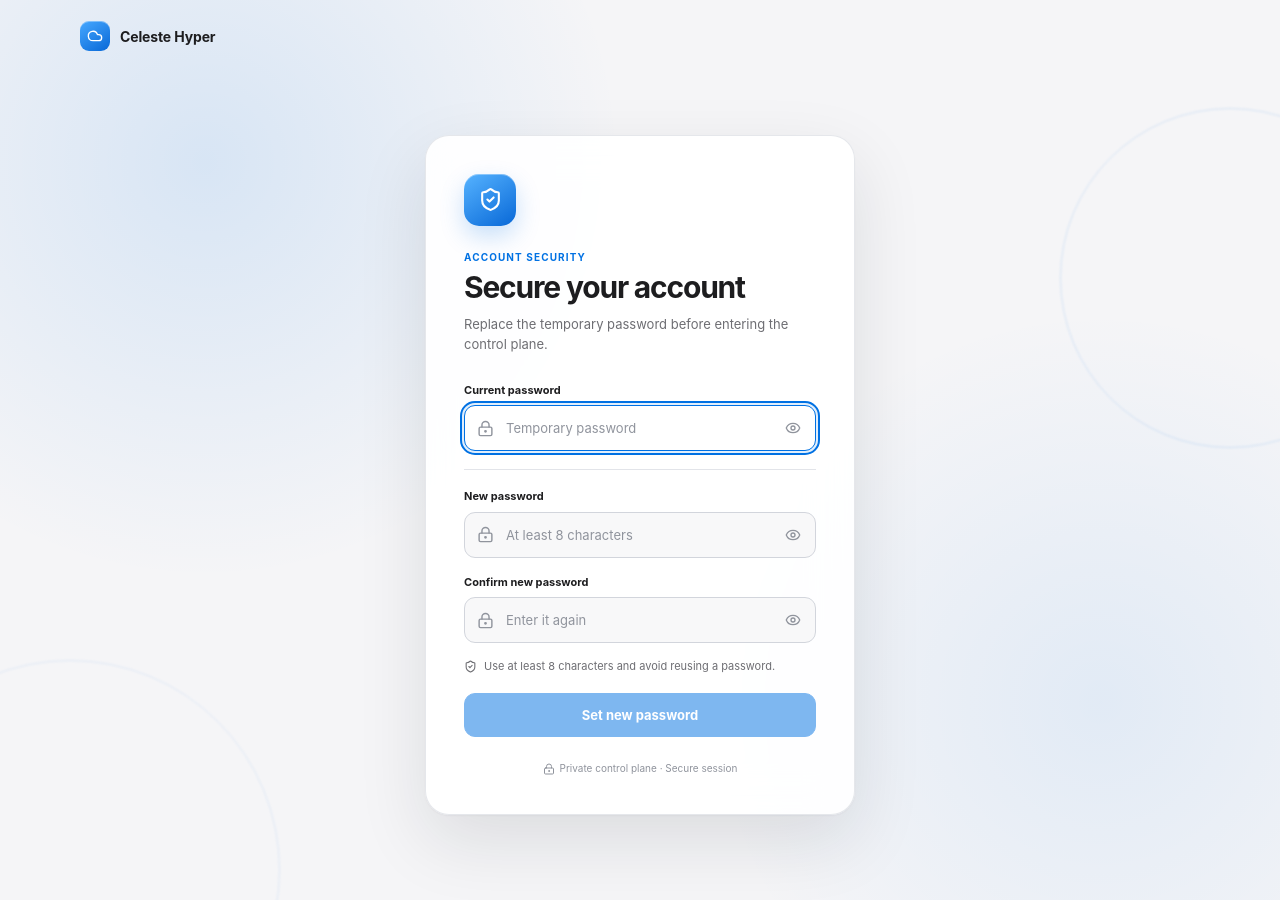
Test: ChangePassword › does not submit a password shorter than eight characters
Step 1. Type "admin" into the password field labelled "Current password" → (640, 428), box [464,405,816,451]
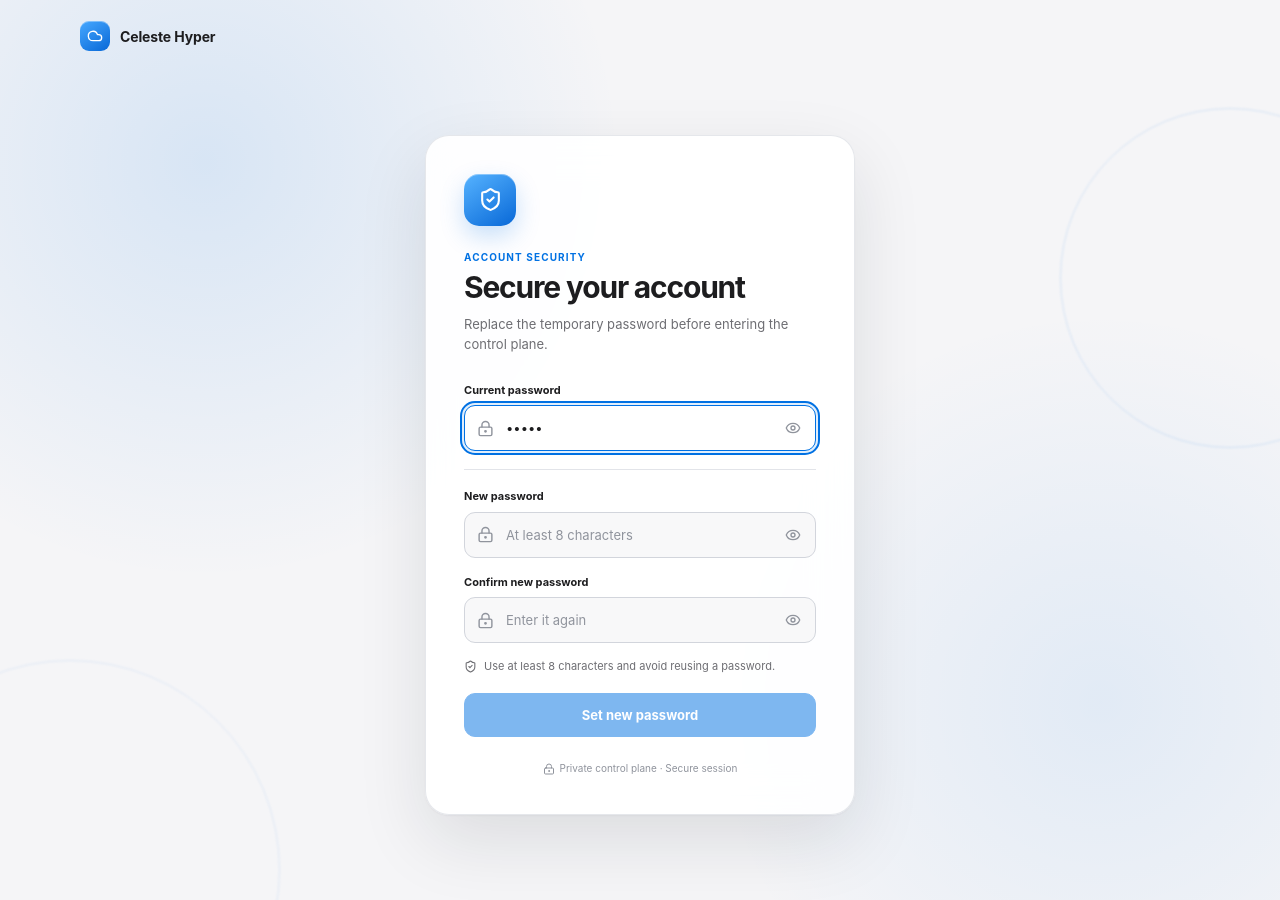
Step 2. Type "short" into the password field labelled "New password" → (640, 535), box [464,512,816,558]
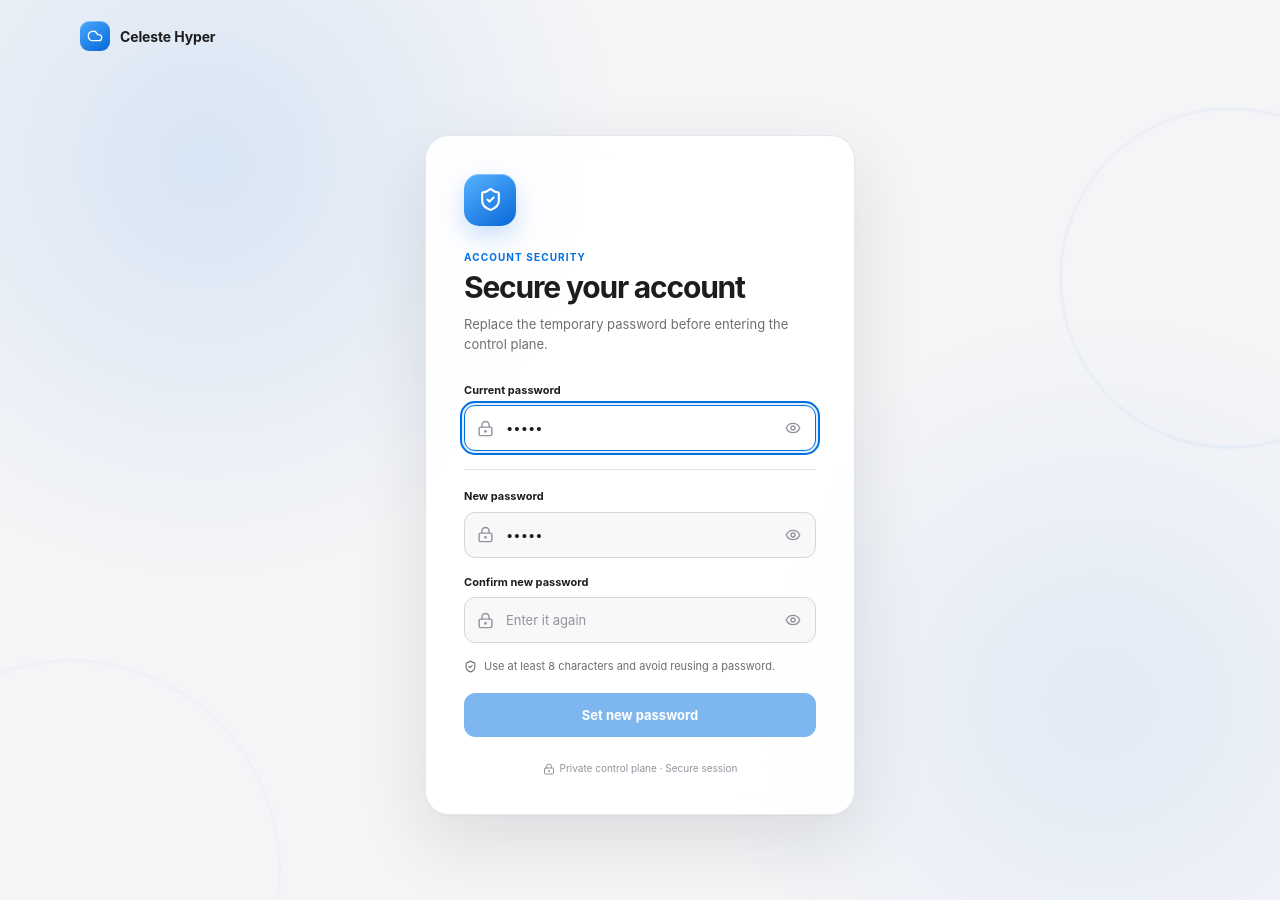
Step 3. Type "short" into the password field labelled "Confirm new password" → (640, 620), box [464,597,816,643]
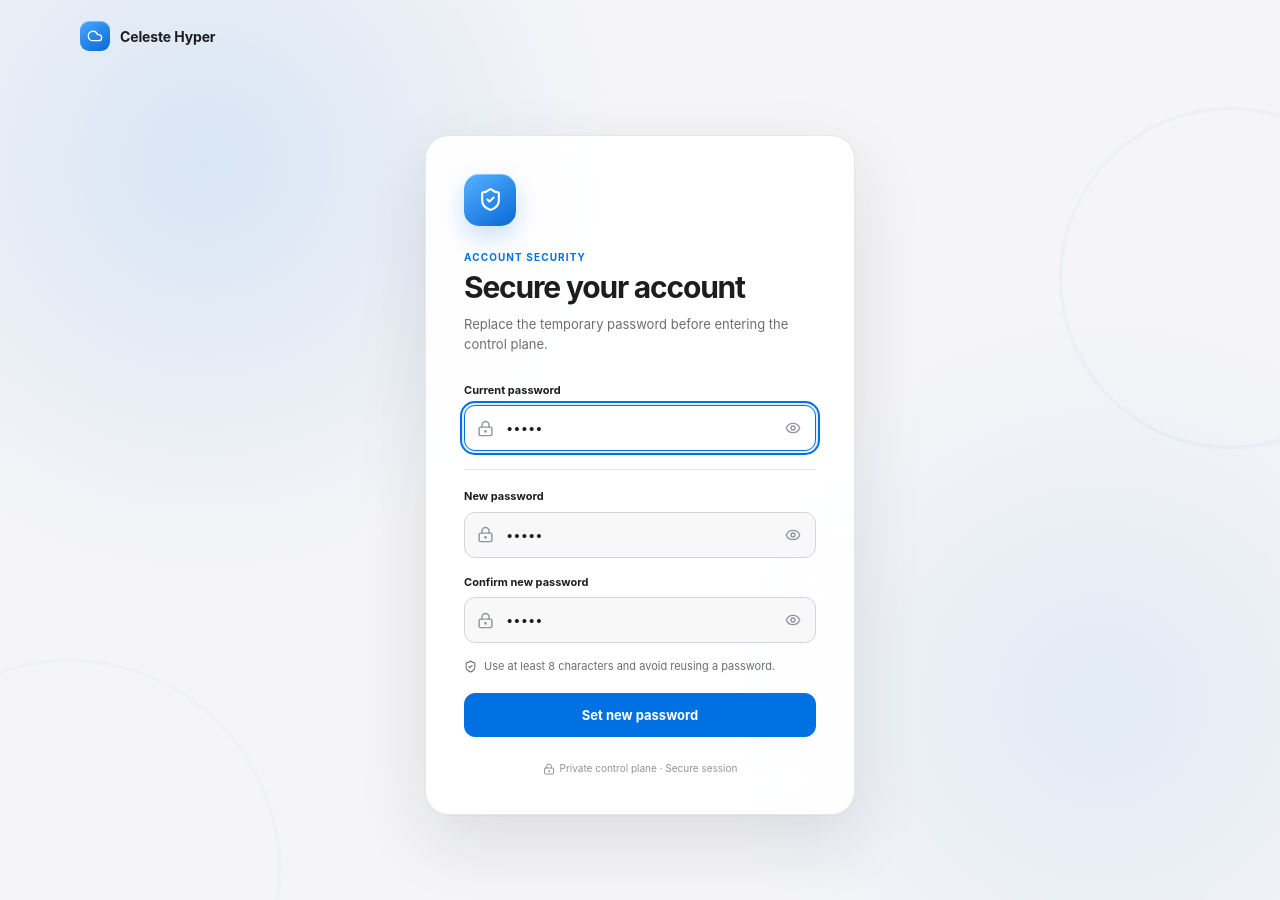
Step 4. Click the button "Set new password" → click(640, 715), box [464,693,816,737]
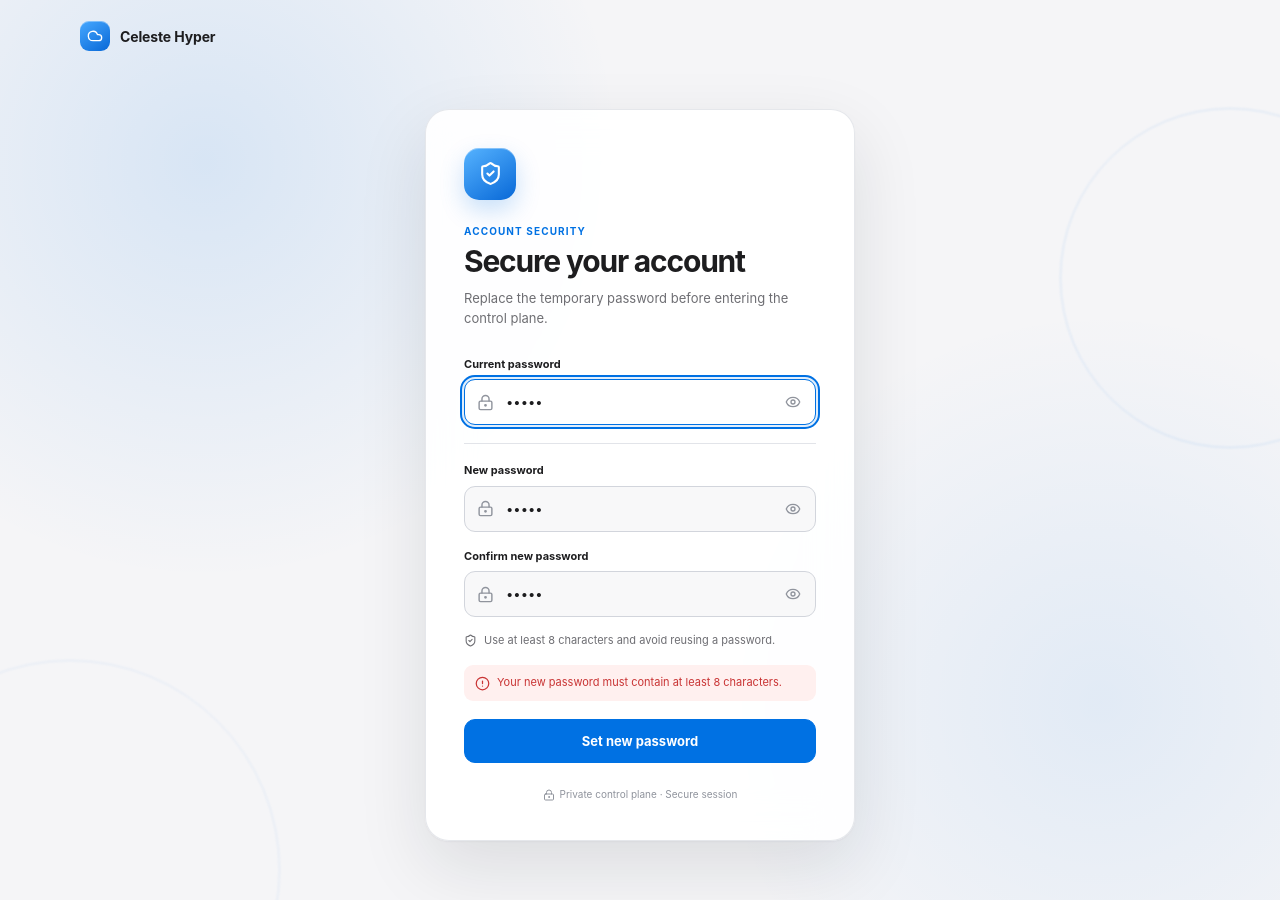
expect the message shows "at least 8 characters": met, box [497,675,782,689]
